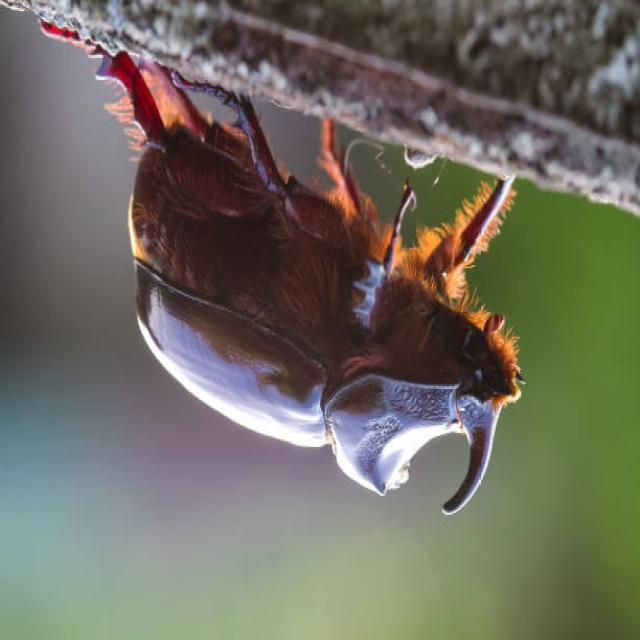Rhino-beetle: (115, 62, 523, 524)
